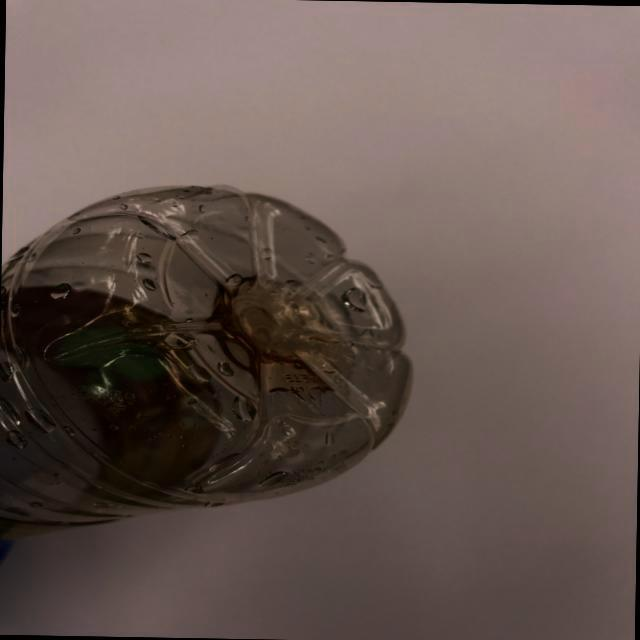plastic: (0, 168, 486, 557)
